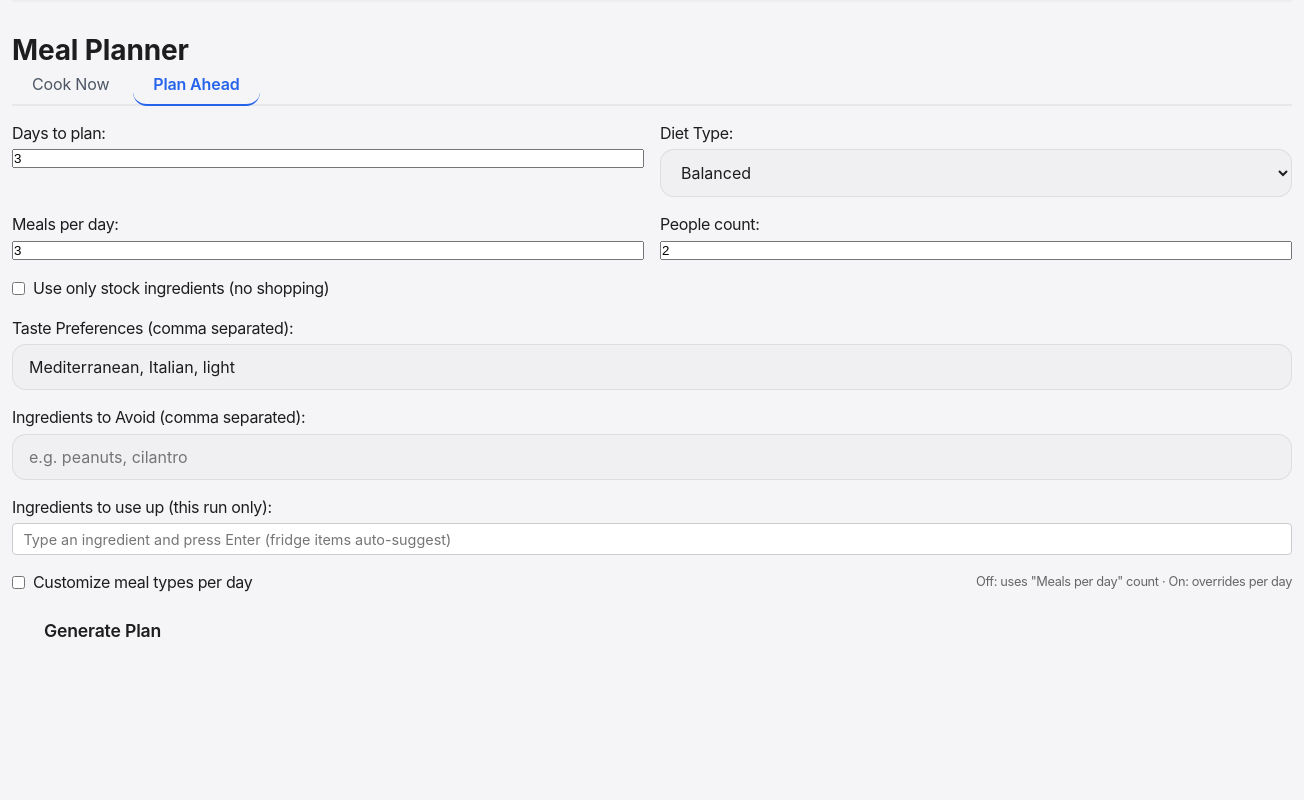
Test case: MealPlanner › renders total cook time badge only when present
Click the button "Generate Plan". click: (103, 630)
box: top-left (12, 611), bottom-right (193, 650)
(page scrolled)
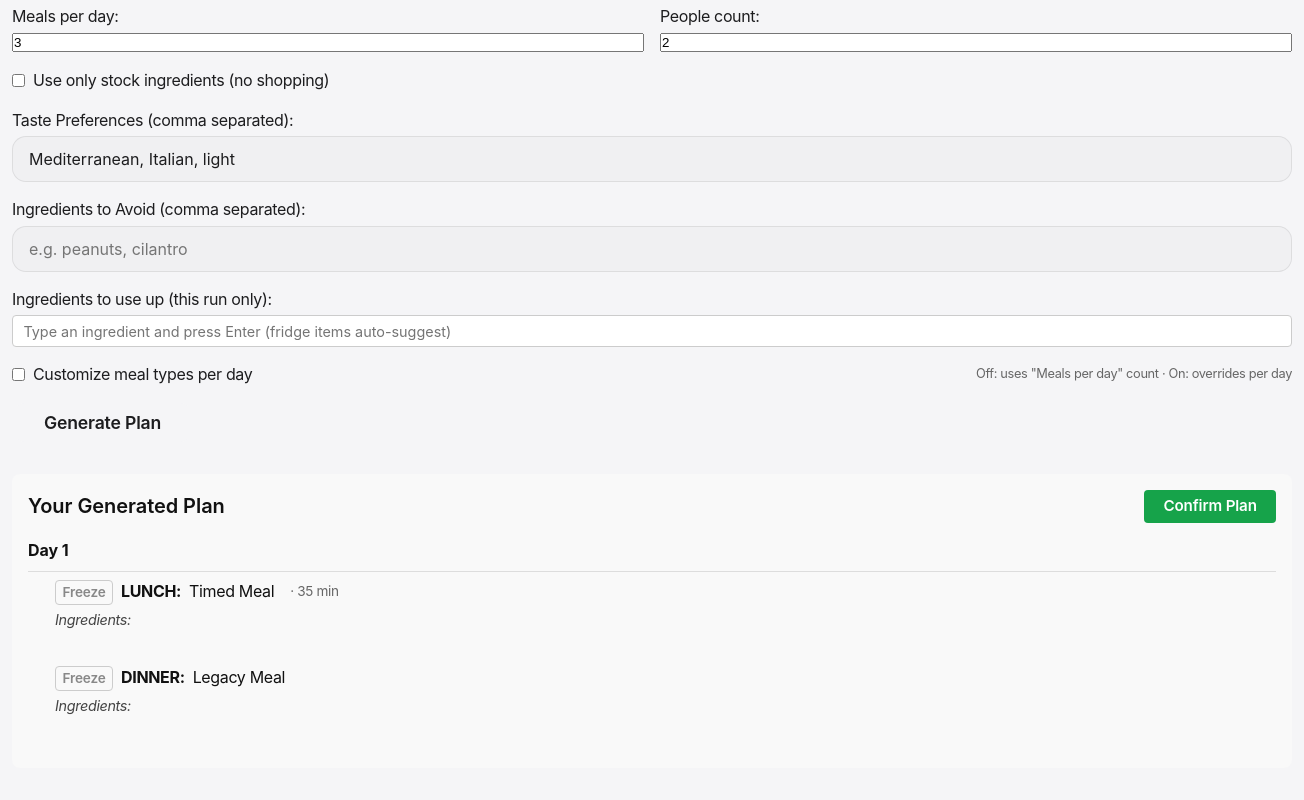
Result: the text "Timed Meal" is shown at top-left (189, 581), bottom-right (274, 601)
Result: the number of elements labelled "· 35 min" is 1 at top-left (290, 582), bottom-right (339, 602)
